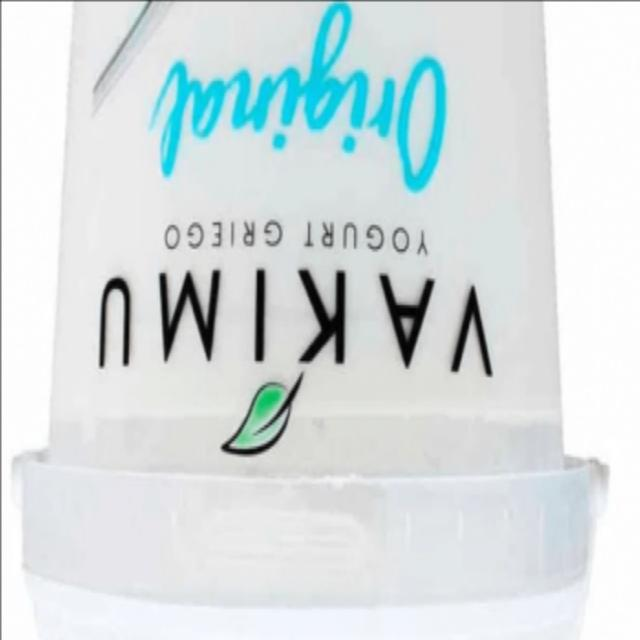yoghurt: (18, 0, 615, 640)
